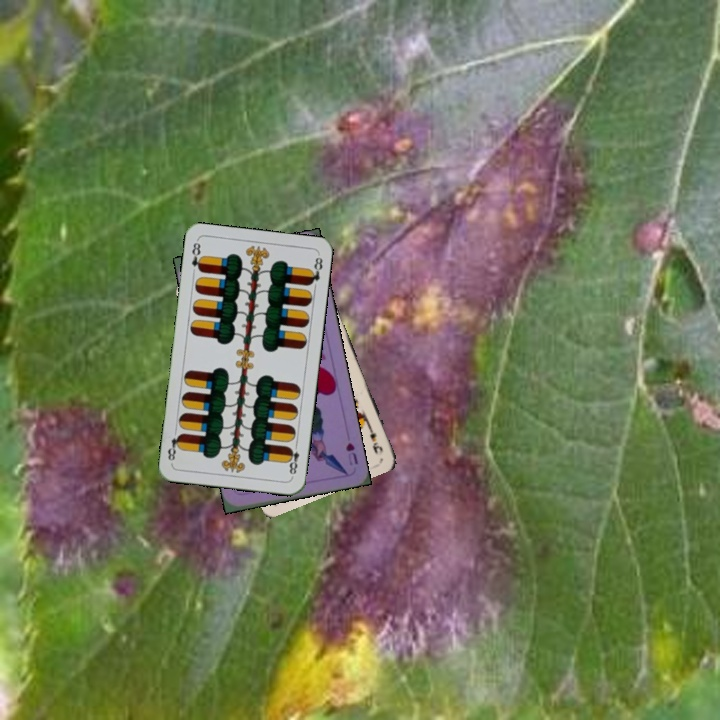E8: (283, 439, 302, 479), (187, 238, 206, 274)
E9: (363, 419, 386, 457)
HU: (341, 438, 361, 468)
